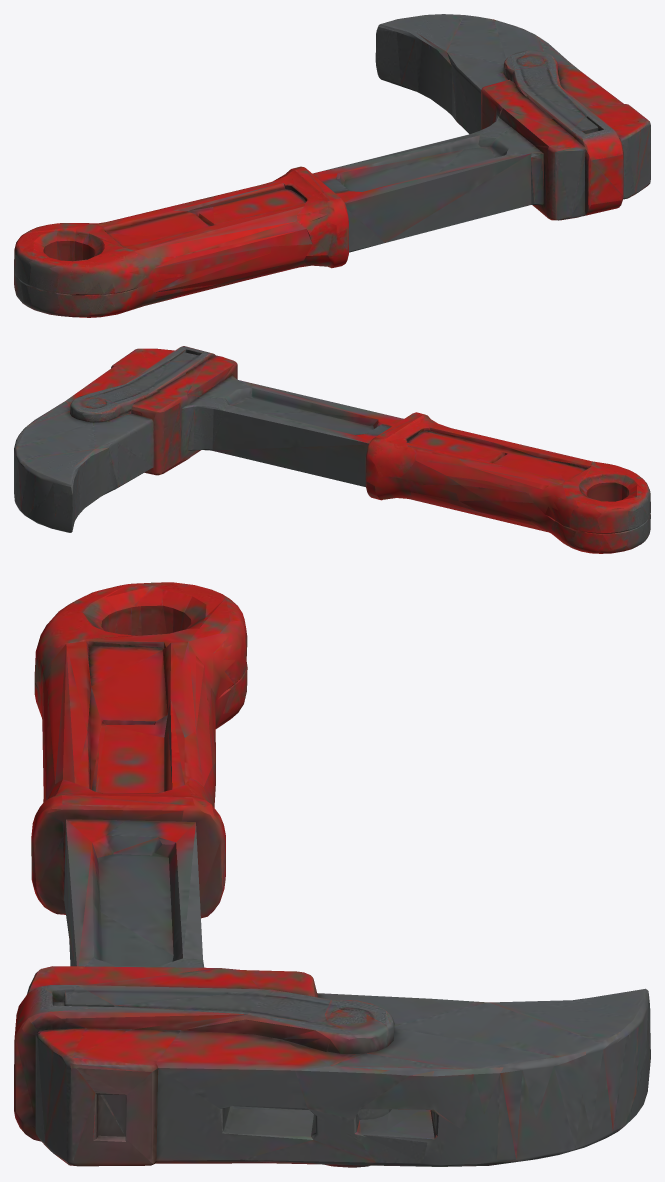
The model's file is wrench.glb.
3 renders of one model, top to bottom at view 1: azimuth 30°, elevation 25°; view 2: azimuth 150°, elevation 25°; view 3: azimuth 270°, elevation 25°, orthographic. The views are drawn at different scales.
Size of the model in its own units: 1.9 by 0.2363 by 1.03.
Materials: 1 (1 with a texture image).
